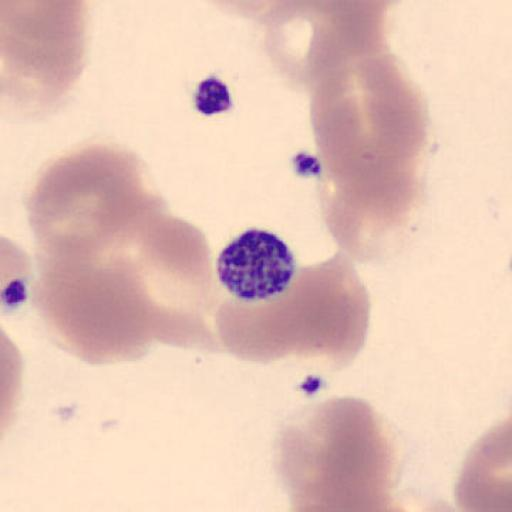Platelet: (212, 223, 300, 303), (185, 68, 240, 120)
RBC: (30, 195, 227, 364), (30, 202, 168, 366), (307, 48, 430, 209), (212, 252, 373, 366), (24, 140, 154, 270), (272, 394, 406, 512), (30, 242, 156, 366), (260, 0, 384, 92), (278, 252, 372, 364), (322, 163, 418, 266), (260, 0, 350, 86), (2, 0, 92, 83), (2, 34, 76, 125), (453, 416, 512, 512), (284, 468, 387, 512), (0, 324, 26, 446), (182, 0, 306, 24), (0, 230, 33, 320), (378, 488, 472, 512)
